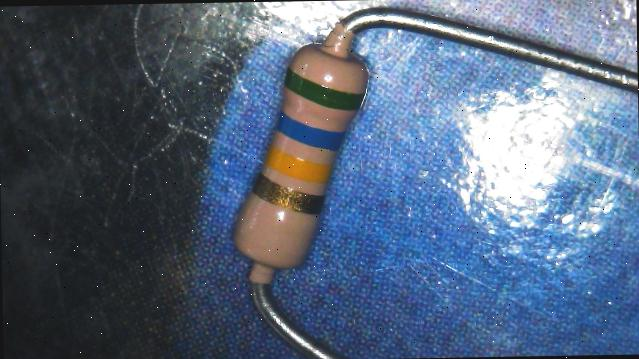blue: (275, 110, 346, 150)
gold: (252, 170, 324, 214)
green: (284, 66, 366, 110)
resistor: (198, 13, 407, 305)
yellow: (265, 143, 332, 183)
